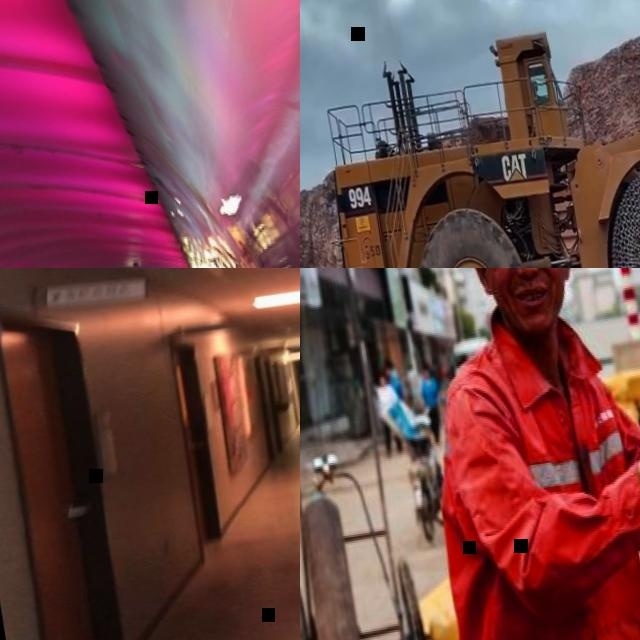NO-Hardhat: (383, 360, 393, 369), (420, 365, 428, 372), (378, 371, 385, 378)
NO-Mask: (491, 268, 565, 335)
NO-Safety Vest: (417, 363, 443, 441), (405, 373, 423, 401), (374, 386, 392, 410), (421, 382, 437, 406), (390, 376, 401, 399)
Person: (372, 268, 640, 640), (370, 368, 403, 457), (400, 361, 426, 413), (383, 359, 403, 404), (531, 79, 547, 101)
Safety Vest: (404, 291, 640, 640)
machinery: (300, 0, 640, 268)
